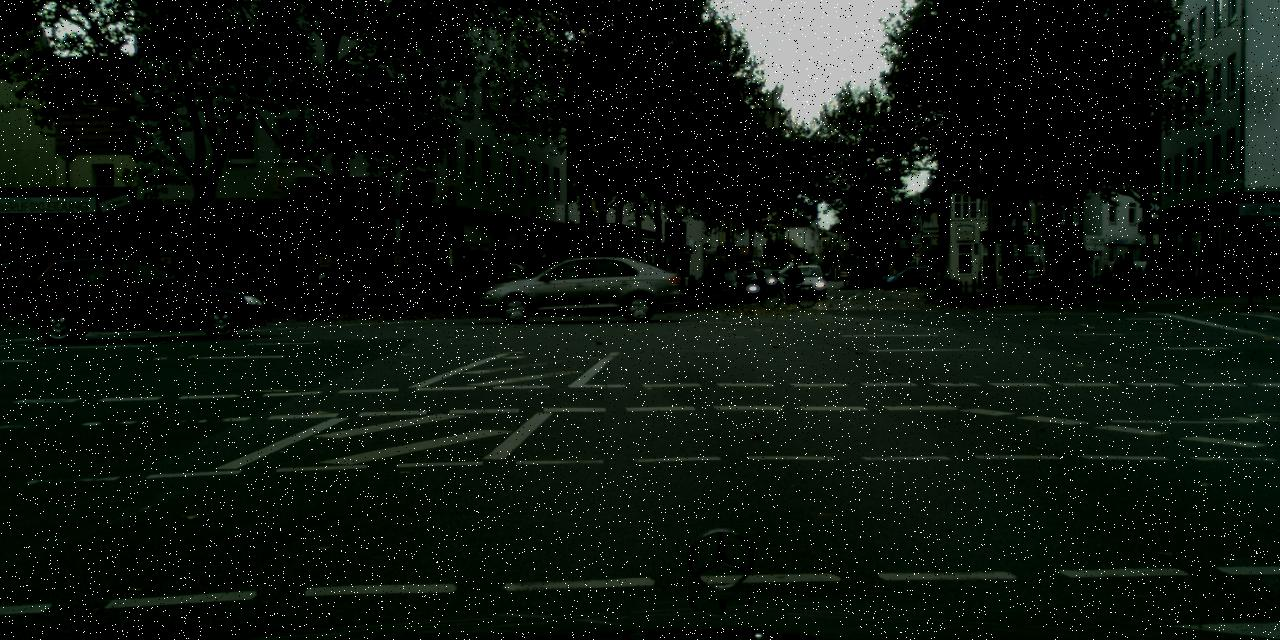ped: (1100, 252, 1160, 295), (0, 248, 18, 312), (779, 252, 799, 304), (1224, 248, 1242, 293), (704, 264, 712, 285)
